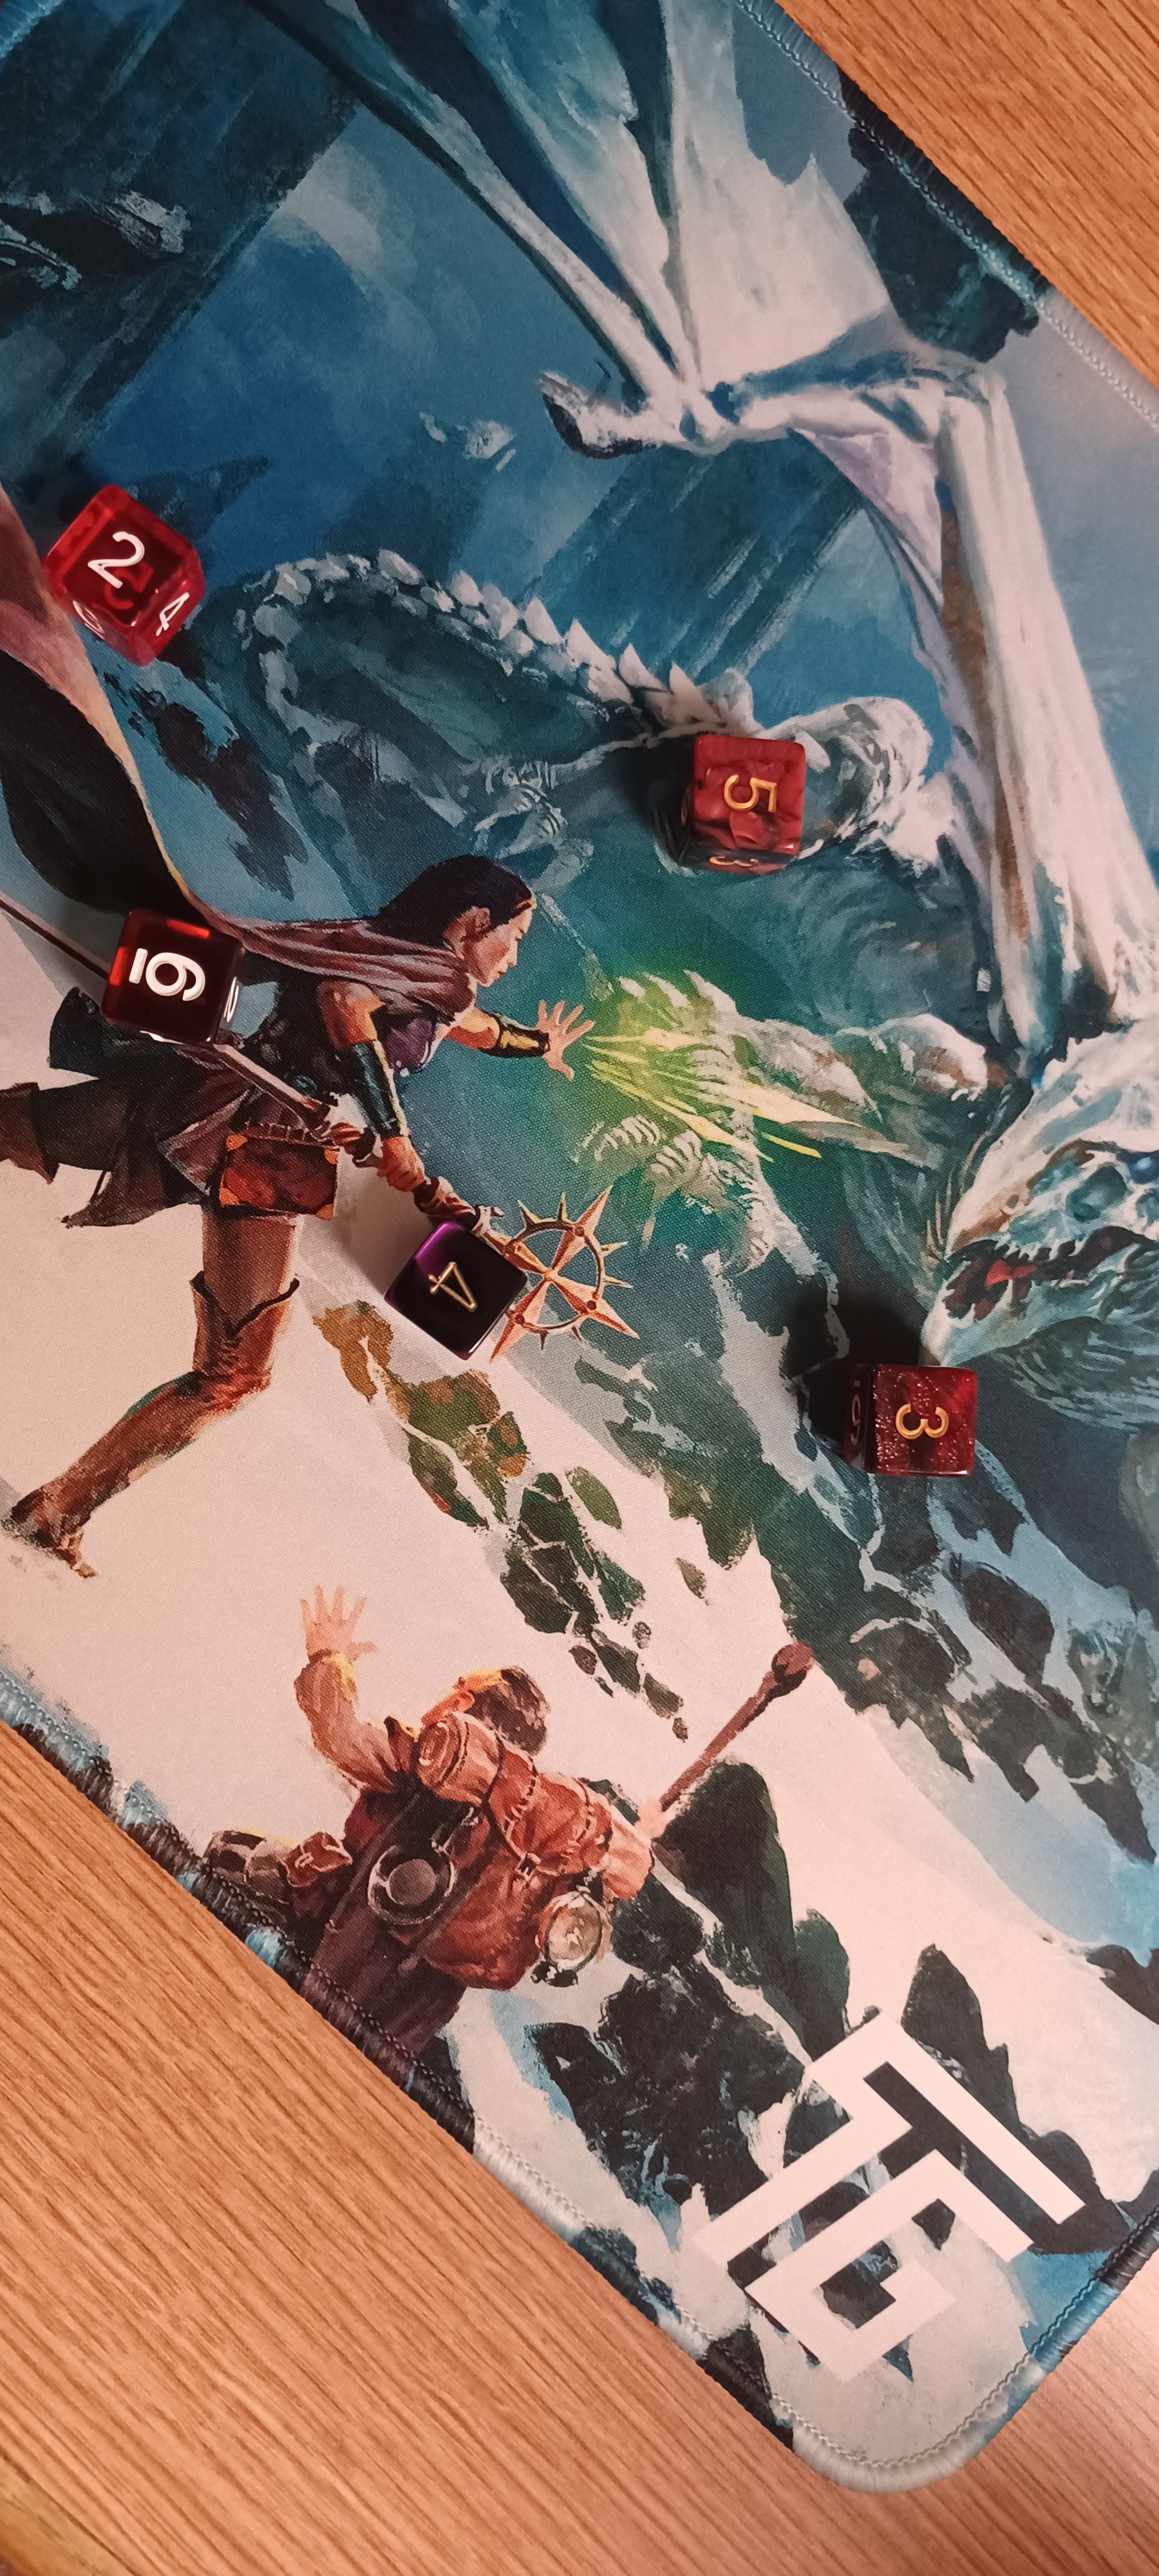five: (662, 708, 836, 899)
four: (337, 1173, 555, 1372)
six: (62, 874, 268, 1071)
three: (824, 1344, 1003, 1500)
two: (11, 465, 225, 697)
